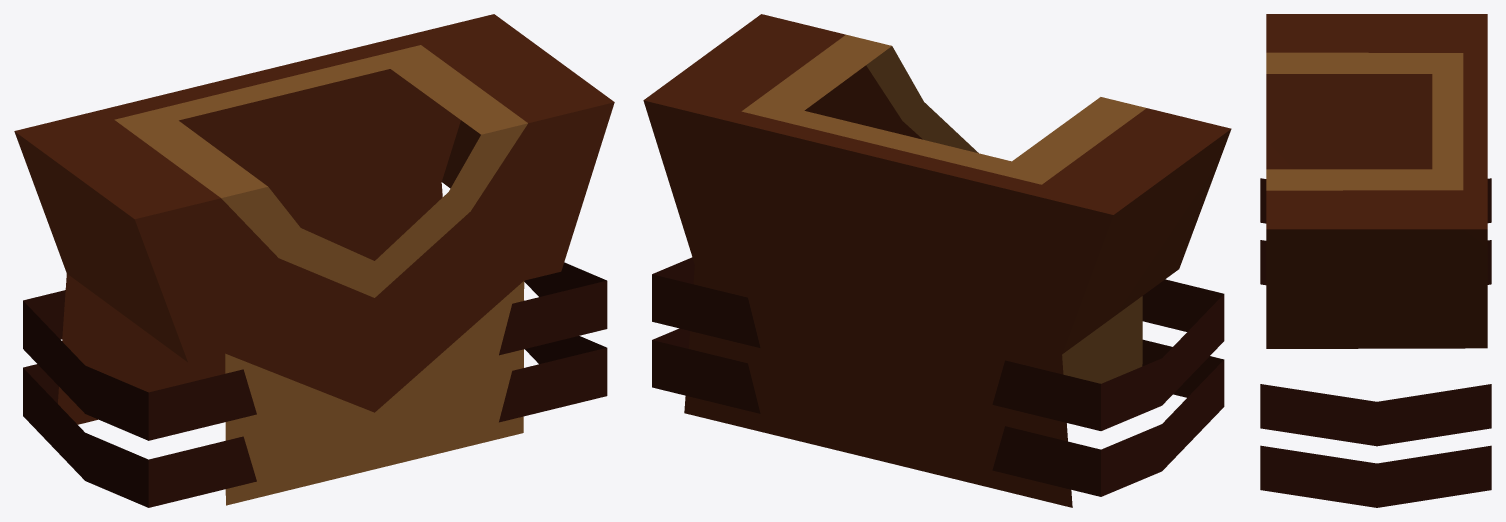
Rendered from Armor 03.FBX.
3 views of the same model, side by side, from view 1: azimuth 30°, elevation 25°; view 2: azimuth 150°, elevation 25°; view 3: azimuth 270°, elevation 25° (orthographic). The views are drawn at different scales.
Visible parts, largest first — view 1: Armor 03; view 2: Armor 03; view 3: Armor 03.
Part boxes in pixels (box(x1,y1,x2,y2)): Armor 03: box(14, 14, 614, 507); Armor 03: box(643, 14, 1231, 507); Armor 03: box(1260, 14, 1491, 507).
Size of the model in its own units: 50.55 by 31.11 by 22.93.
1 material, 1 textured.
